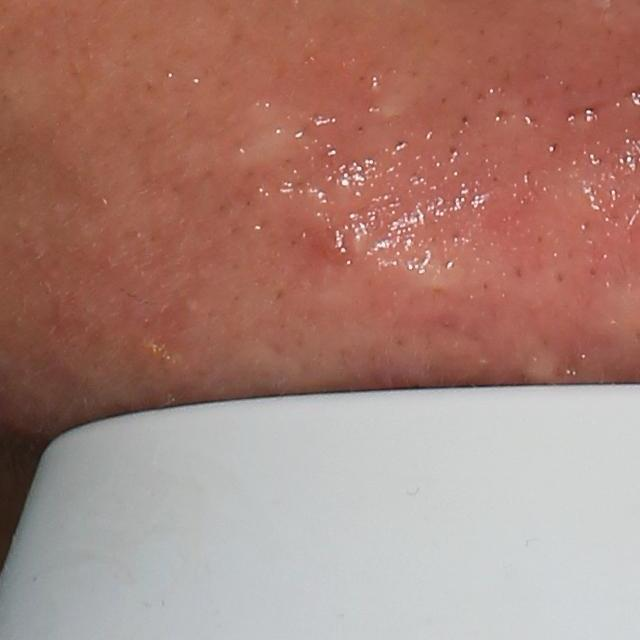hypertrophic_scar: (513, 155, 627, 238), (354, 241, 498, 303), (222, 96, 312, 174), (286, 167, 377, 232), (495, 326, 572, 382), (374, 81, 415, 123)
